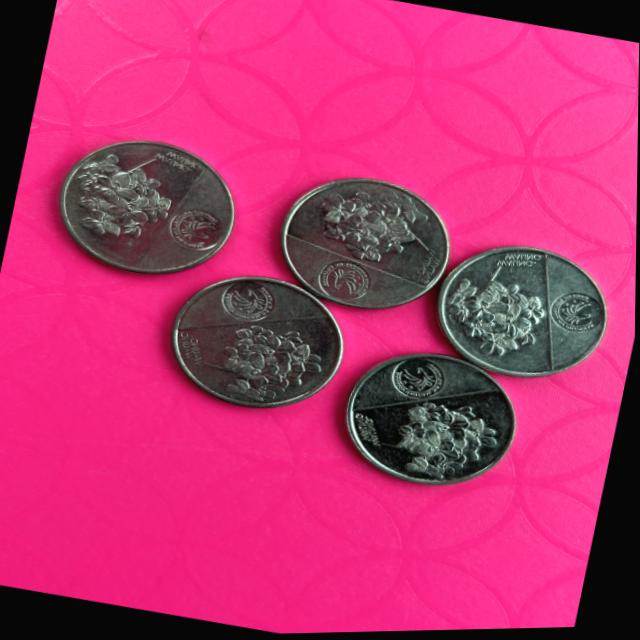1_New_Back: (292, 168, 425, 268), (65, 142, 186, 250), (443, 257, 550, 369), (204, 314, 326, 411), (388, 394, 501, 497)
